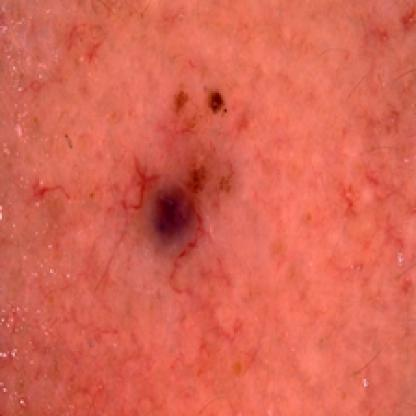malignant: (128, 137, 221, 262)
